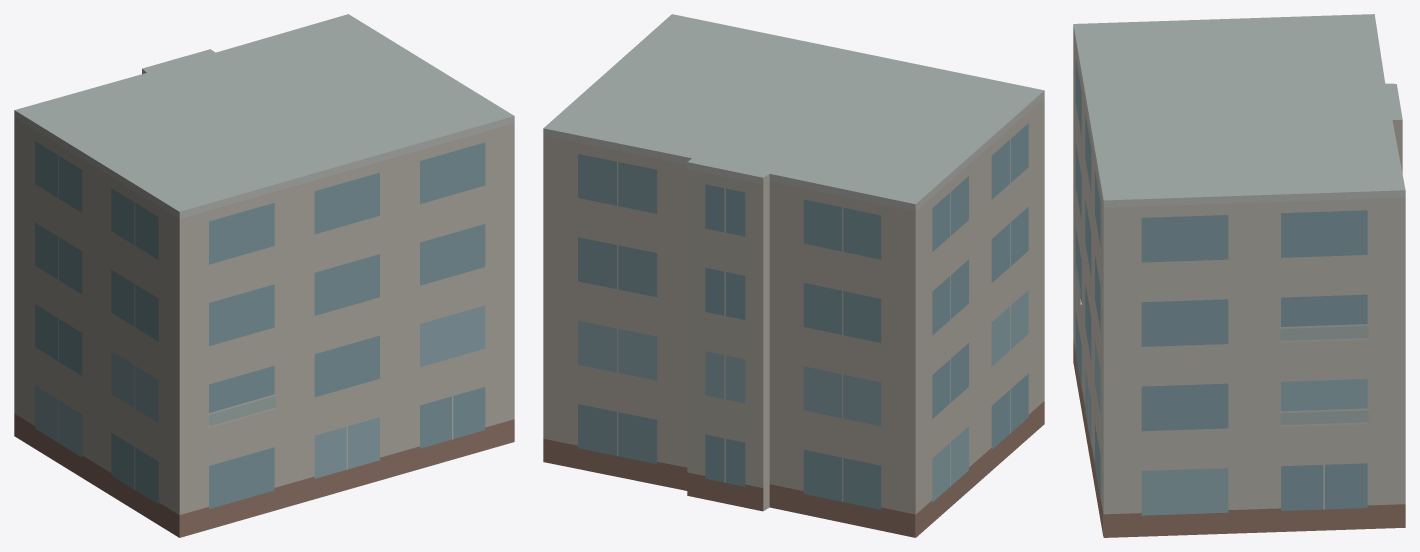
The model's file is survey-upis-33033857.glb.
3 views of the same model, side by side, from view 1: azimuth 30°, elevation 25°; view 2: azimuth 150°, elevation 25°; view 3: azimuth 270°, elevation 25° (orthographic). The views are drawn at different scales.
Visible parts, largest first — view 1: survey-upis-33033857.tmp; view 2: survey-upis-33033857.tmp; view 3: survey-upis-33033857.tmp.
Boxes of the visible parts, bbox=[...] form: survey-upis-33033857.tmp: bbox=[14, 14, 514, 537]; survey-upis-33033857.tmp: bbox=[543, 14, 1044, 537]; survey-upis-33033857.tmp: bbox=[1073, 14, 1405, 537].
Bounding box in the file's own units: 13.22 × 11.15 × 9.96.
